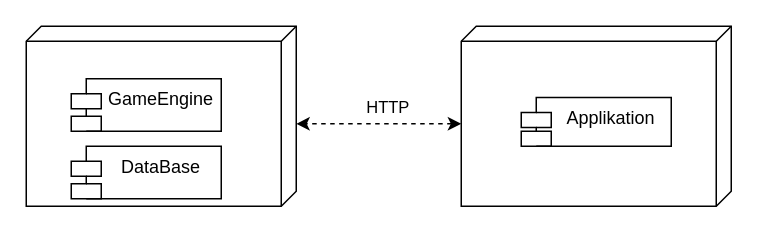
The diagram is 758 pixels wide and 233 high, and some of its shapes have lost their labels. Here are the shapes that lost their labels. From the top down, the box of each, then its label:
(25, 25, 296, 206): Server
(460, 25, 731, 206): Telefon
